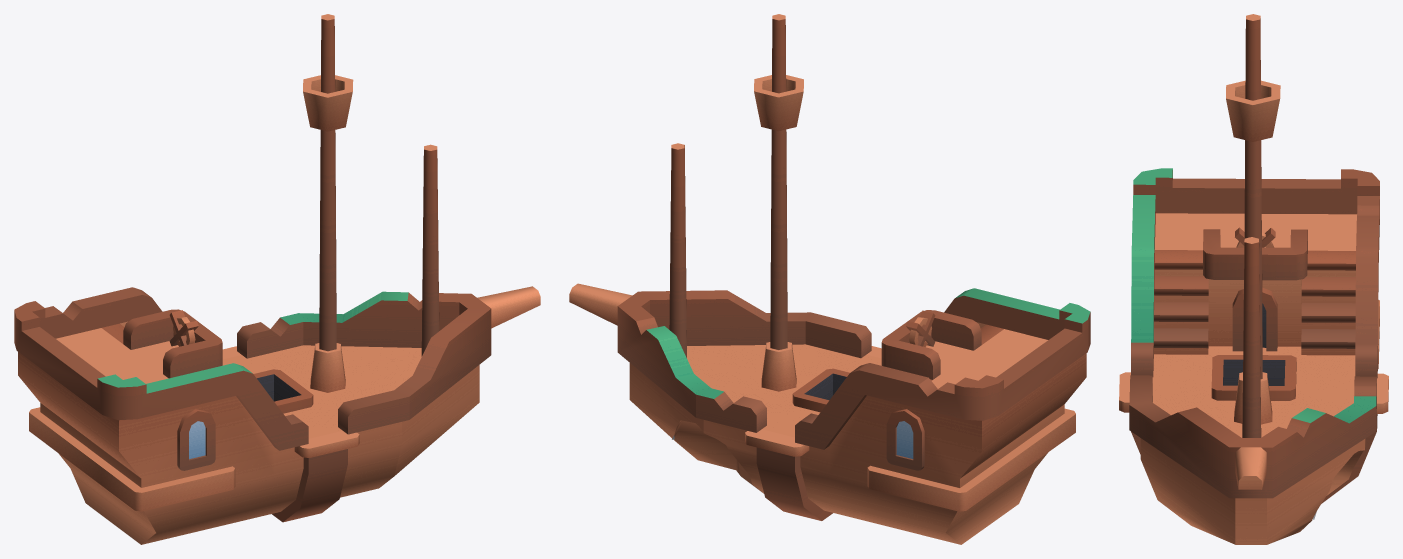
File: ship-wreck.002_lev2.glb
3 renders of one model, left to right at view 1: azimuth 30°, elevation 25°; view 2: azimuth 150°, elevation 25°; view 3: azimuth 270°, elevation 25°, orthographic. The views are drawn at different scales.
Visible parts, largest first — view 1: ship-wreck.002_lev2; view 2: ship-wreck.002_lev2; view 3: ship-wreck.002_lev2.
Part boxes in pixels (x1,y1,x2,y2): ship-wreck.002_lev2: (14, 14, 540, 544); ship-wreck.002_lev2: (569, 14, 1090, 544); ship-wreck.002_lev2: (1119, 14, 1388, 544).
Bounding box in the file's own units: 10.62 × 9.96 × 4.81.
1 material, 1 textured.
